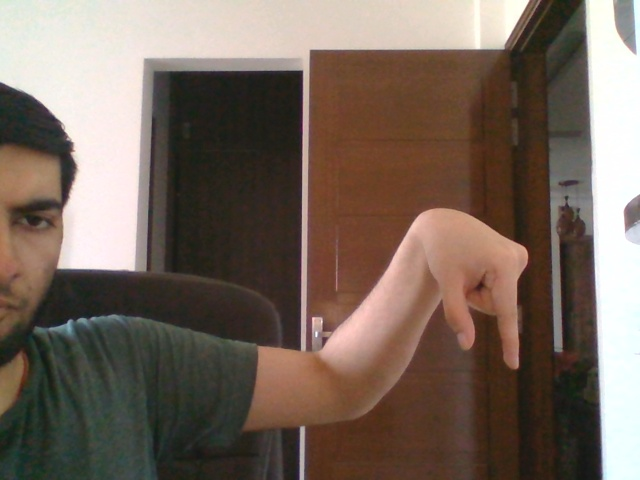LetterQ: (417, 205, 531, 373)
